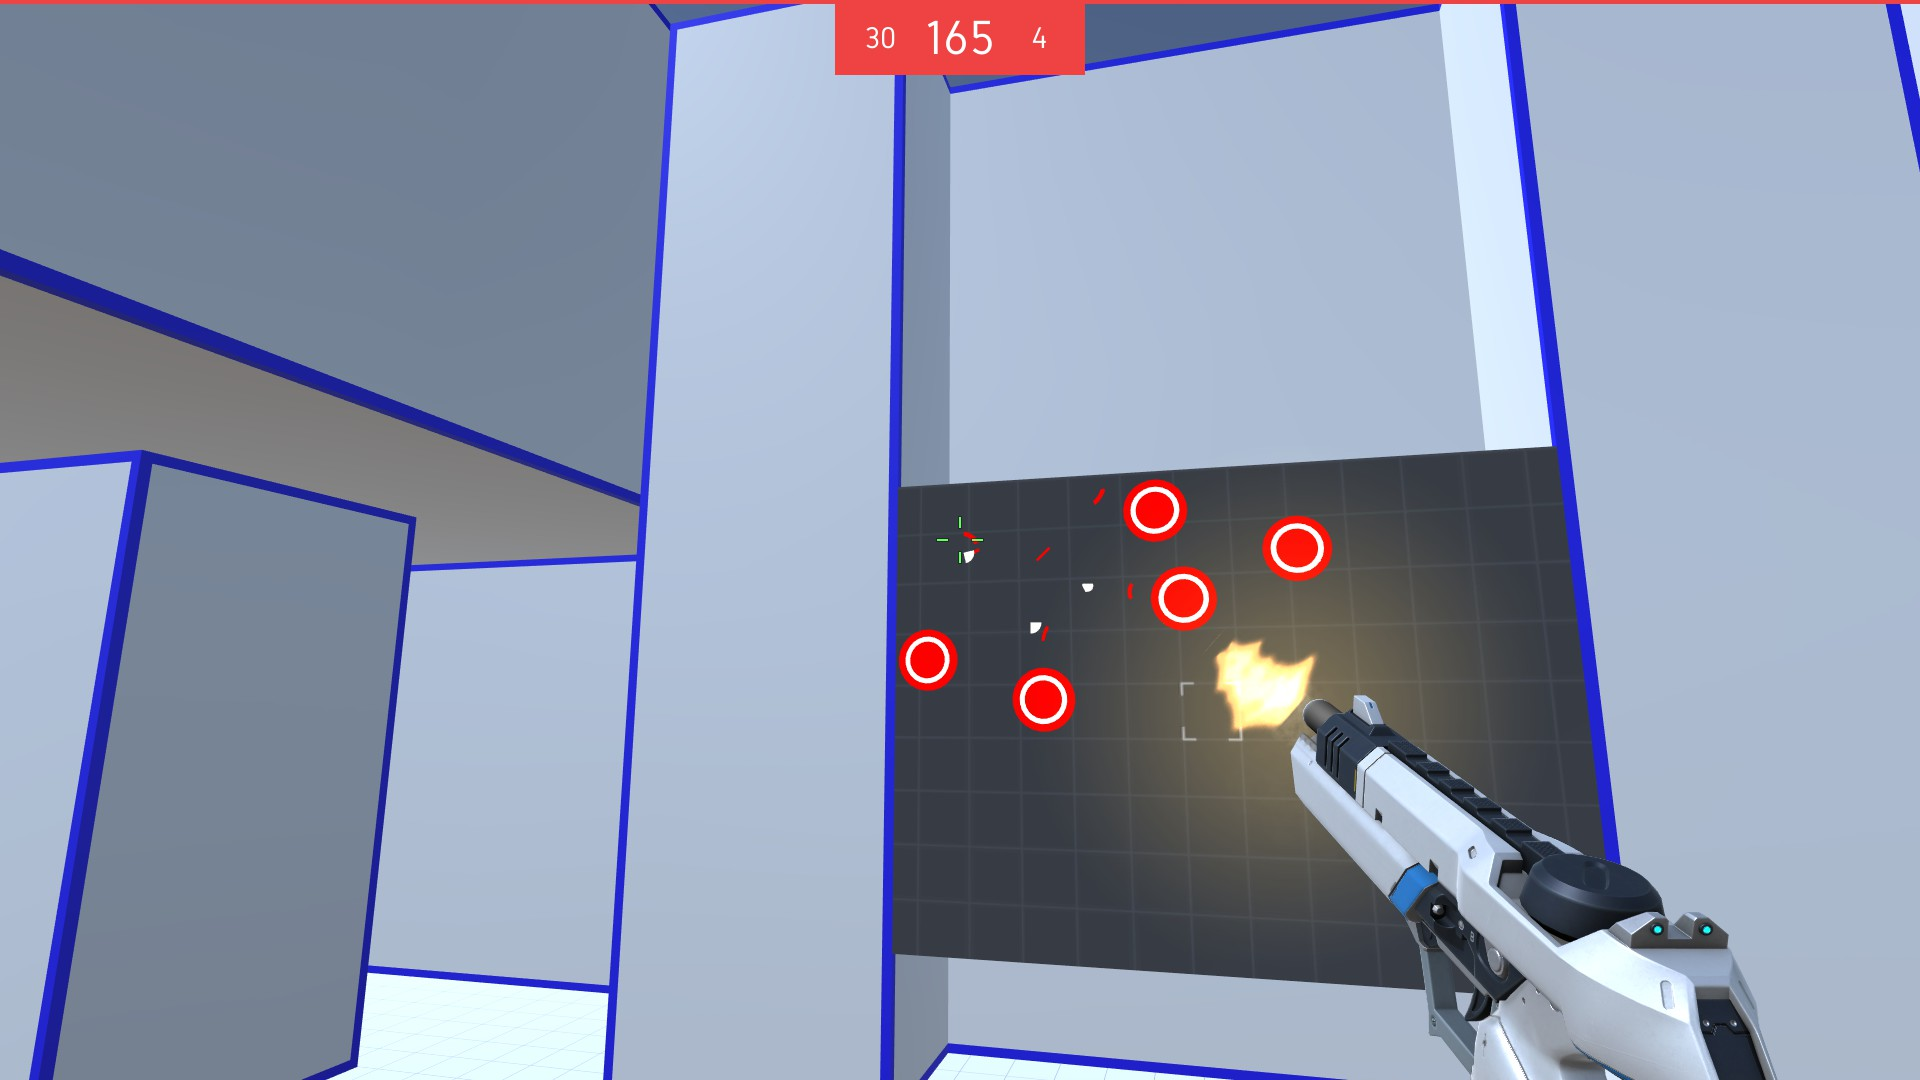target: (1146, 564, 1222, 636), (1007, 662, 1077, 735), (1259, 516, 1335, 583), (1122, 477, 1191, 547), (893, 626, 961, 696)
